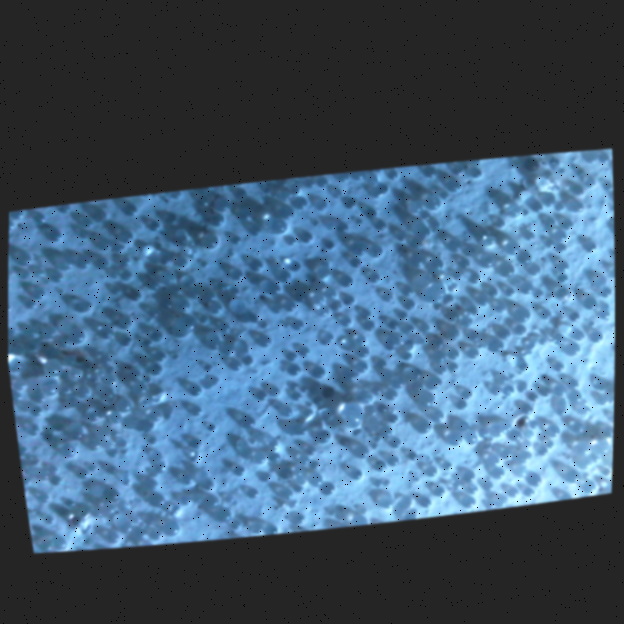GrassBeadSeg: (111, 182, 612, 489), (109, 196, 554, 508), (171, 205, 613, 514), (139, 151, 611, 433), (35, 159, 559, 403), (61, 301, 563, 538), (49, 238, 527, 485), (259, 155, 603, 481), (26, 239, 476, 480), (179, 199, 534, 504), (116, 240, 519, 507), (29, 228, 582, 416), (154, 220, 574, 458), (37, 292, 495, 502), (146, 287, 614, 489), (86, 199, 446, 451), (102, 188, 471, 430), (233, 188, 532, 475), (74, 327, 514, 521), (69, 309, 552, 485), (9, 221, 389, 435), (116, 316, 596, 485), (45, 233, 315, 517), (132, 312, 507, 508), (104, 375, 534, 543), (35, 157, 561, 293), (134, 205, 521, 387), (19, 271, 401, 455), (120, 270, 391, 528), (91, 241, 403, 465), (101, 313, 447, 513), (40, 260, 570, 389), (267, 217, 591, 428), (43, 362, 460, 523), (115, 197, 358, 470), (201, 234, 433, 507), (218, 167, 437, 447), (215, 197, 598, 356), (345, 226, 592, 470), (35, 324, 414, 478), (44, 204, 269, 463), (207, 213, 465, 437), (117, 303, 389, 509), (49, 217, 233, 521), (42, 199, 328, 394), (278, 252, 533, 470), (24, 244, 521, 355), (154, 332, 565, 463), (93, 211, 263, 525), (68, 220, 398, 377), (148, 421, 587, 539), (103, 386, 553, 500), (146, 240, 337, 498), (15, 256, 357, 396), (106, 389, 569, 492), (148, 389, 476, 534), (145, 232, 311, 505), (66, 255, 428, 378), (47, 393, 582, 473), (213, 200, 481, 358), (186, 267, 511, 396), (46, 229, 370, 358), (256, 330, 604, 443), (204, 305, 489, 436), (45, 360, 464, 445), (30, 287, 247, 451), (187, 373, 470, 498), (306, 303, 497, 484), (114, 326, 512, 412), (249, 259, 392, 495), (33, 392, 392, 486), (144, 354, 388, 489), (149, 378, 581, 454), (66, 257, 445, 341), (248, 228, 396, 436), (424, 196, 579, 394), (202, 374, 528, 462), (203, 286, 412, 423), (106, 467, 508, 538), (159, 271, 292, 479), (385, 268, 613, 389), (77, 354, 296, 478), (112, 199, 419, 287), (341, 295, 502, 460), (266, 364, 423, 532), (146, 301, 375, 415), (388, 311, 578, 448), (444, 162, 587, 340), (98, 300, 314, 416), (287, 311, 437, 476), (200, 222, 348, 387), (107, 411, 513, 471), (279, 405, 582, 482), (264, 270, 565, 346), (115, 256, 235, 446), (196, 289, 338, 449), (100, 291, 427, 360), (227, 364, 524, 439), (417, 324, 613, 436), (338, 263, 443, 470), (323, 180, 462, 332), (36, 336, 270, 426), (351, 284, 440, 520), (399, 288, 515, 455), (73, 299, 368, 362), (9, 209, 385, 257), (289, 256, 454, 365), (11, 261, 206, 353), (286, 236, 569, 299), (478, 158, 541, 438), (51, 334, 133, 549), (16, 229, 565, 260), (374, 186, 483, 341), (372, 384, 505, 507), (76, 192, 291, 267), (348, 242, 568, 309), (162, 359, 245, 536), (188, 351, 415, 415), (181, 464, 529, 505), (352, 336, 509, 426), (33, 368, 175, 463), (114, 407, 260, 498), (208, 306, 461, 358), (348, 294, 449, 420), (143, 298, 445, 340), (229, 260, 491, 306), (36, 212, 113, 364), (218, 320, 375, 392), (46, 203, 187, 283), (510, 386, 612, 495), (39, 409, 163, 498), (355, 390, 500, 465), (268, 360, 372, 462), (8, 290, 217, 339), (409, 315, 480, 452), (102, 296, 211, 385), (207, 388, 437, 430), (320, 409, 445, 486), (408, 218, 507, 311), (12, 331, 114, 420), (119, 190, 251, 257), (368, 273, 444, 388), (70, 285, 125, 439), (262, 262, 517, 295), (310, 365, 431, 433), (446, 312, 511, 433), (98, 240, 196, 320), (370, 247, 424, 391), (375, 434, 477, 510), (366, 278, 599, 310), (148, 362, 257, 428), (455, 166, 558, 231), (295, 460, 418, 514), (360, 301, 586, 330), (238, 314, 352, 371), (126, 440, 251, 483), (39, 326, 138, 380), (294, 380, 380, 442), (461, 308, 547, 369), (564, 341, 598, 492), (450, 436, 535, 496), (152, 262, 239, 320), (445, 230, 529, 290), (402, 254, 497, 307), (543, 154, 612, 226), (353, 353, 400, 458), (407, 450, 544, 486), (493, 363, 590, 412), (258, 333, 506, 352), (357, 445, 448, 496), (312, 170, 398, 222), (23, 457, 96, 518), (419, 166, 481, 236), (79, 218, 170, 262), (460, 471, 567, 508), (280, 384, 308, 522), (566, 394, 610, 478), (60, 443, 272, 460), (204, 438, 257, 506), (576, 385, 612, 474), (515, 261, 567, 322), (313, 207, 441, 231), (524, 199, 585, 246), (28, 424, 81, 477), (89, 439, 163, 475), (265, 176, 328, 218), (406, 237, 424, 374), (116, 480, 155, 538), (370, 183, 408, 241), (250, 516, 370, 532), (264, 299, 342, 322), (422, 284, 460, 331), (264, 487, 295, 533), (237, 318, 306, 335), (271, 362, 302, 395), (492, 361, 527, 390), (94, 508, 130, 534), (450, 282, 514, 295), (506, 276, 533, 294), (176, 316, 199, 331), (527, 261, 542, 284)
